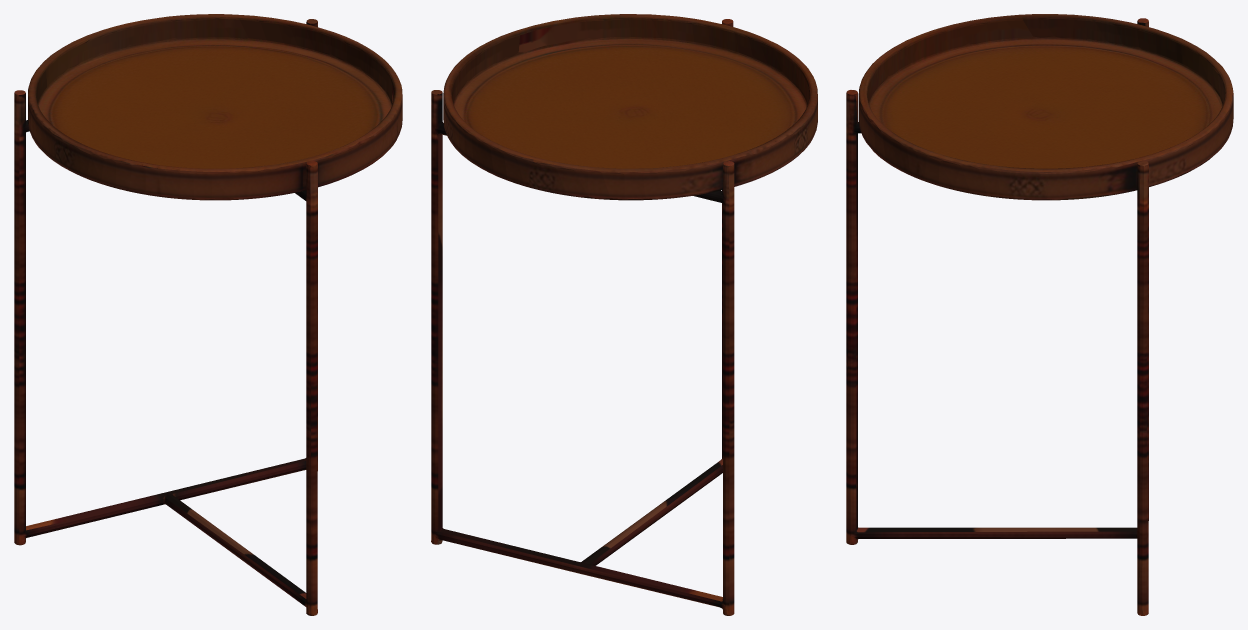
The model's file is edited_mesh.glb.
3 views of the same model, side by side, from view 1: azimuth 30°, elevation 25°; view 2: azimuth 150°, elevation 25°; view 3: azimuth 270°, elevation 25° (orthographic).
Parts seen in each view (by area): view 1: normalized_model.obj; view 2: normalized_model.obj; view 3: normalized_model.obj.
Part boxes in pixels (x1=…): normalized_model.obj: x1=14, y1=14, x2=402, y2=615; normalized_model.obj: x1=431, y1=14, x2=817, y2=615; normalized_model.obj: x1=846, y1=14, x2=1233, y2=615.
Bounding box in the file's own units: 1.09 × 1.44 × 1.12.
1 material, 1 textured.
